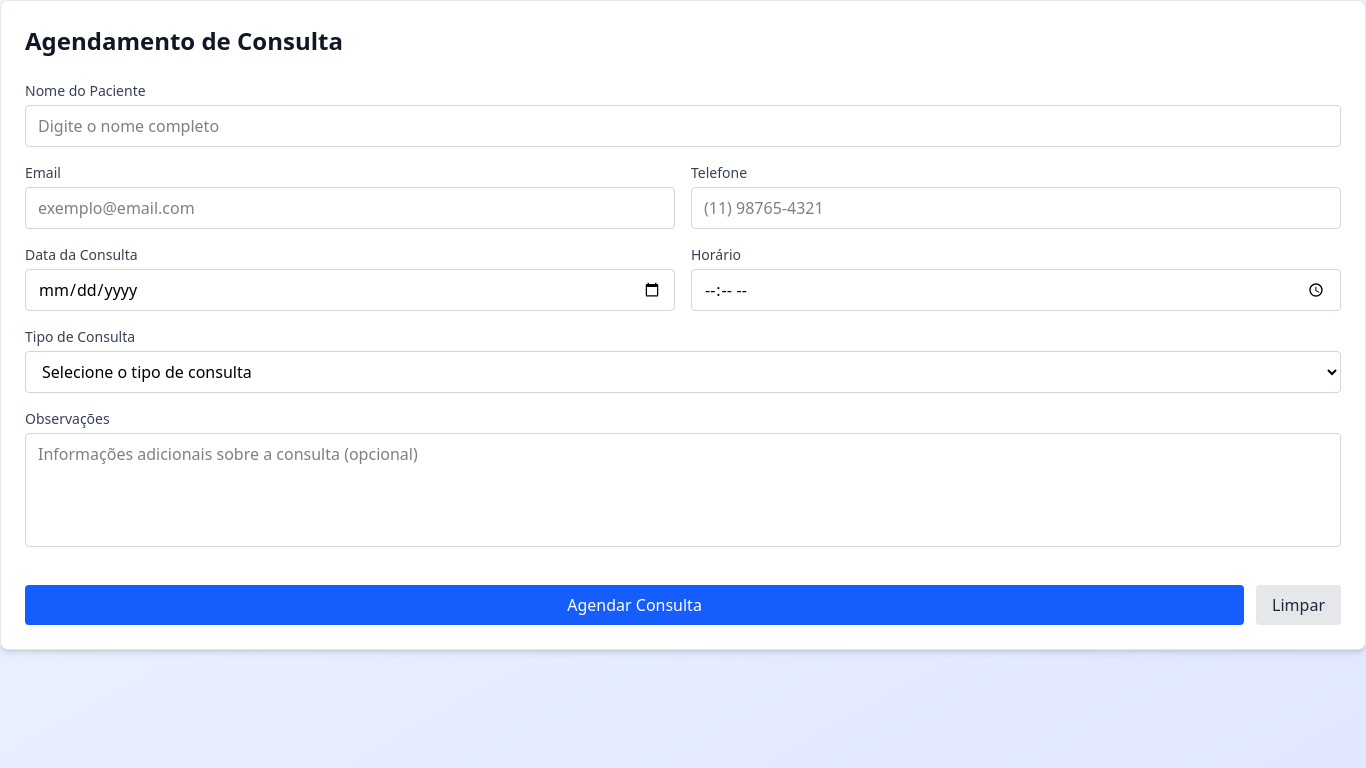
AppointmentForm › Validation - Patient Name › should clear error when user starts typing
Click the button "Agendar Consulta": click(635, 605) [25,585,1244,625]
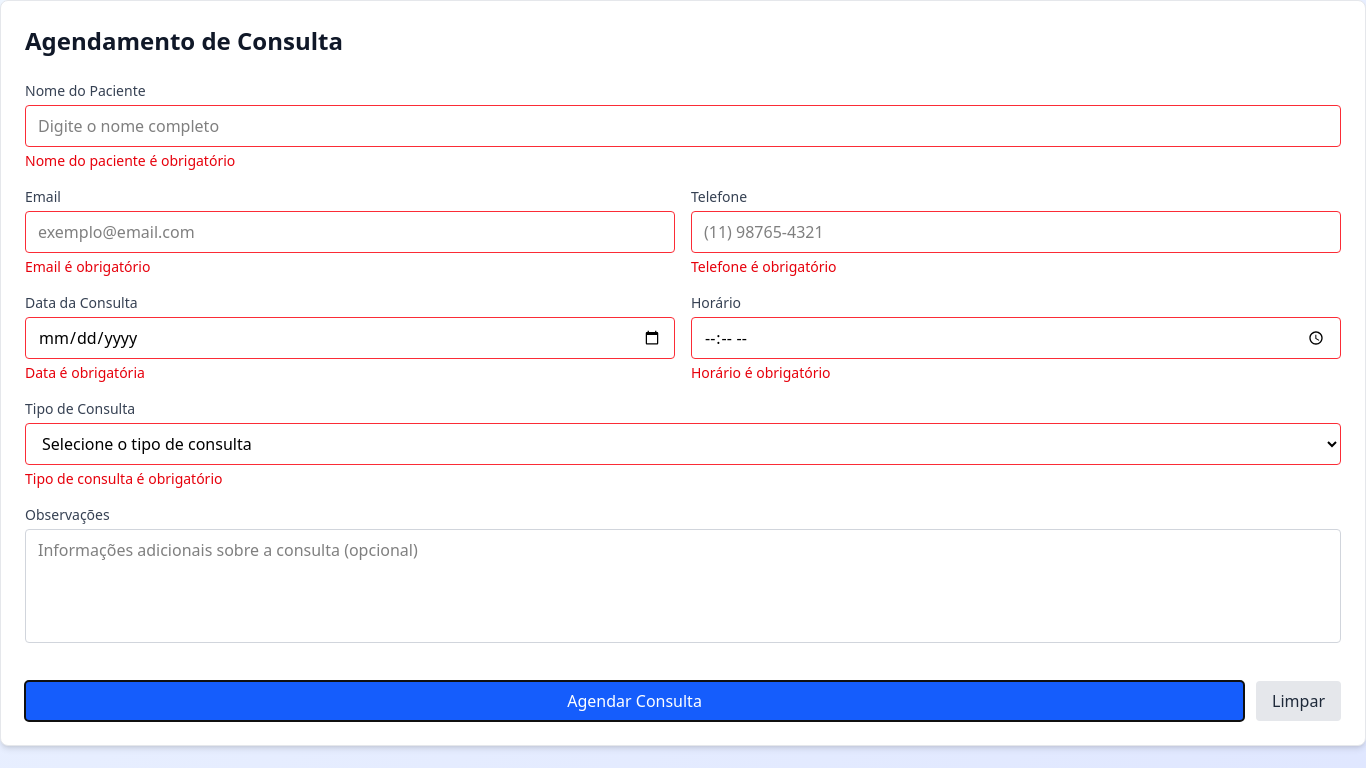
Expected: the text "Nome do paciente é obrigatório" is shown, [25,151,235,170]
In the field labelled "Nome do Paciente": (683, 126) [25,105,1341,147], type "João"
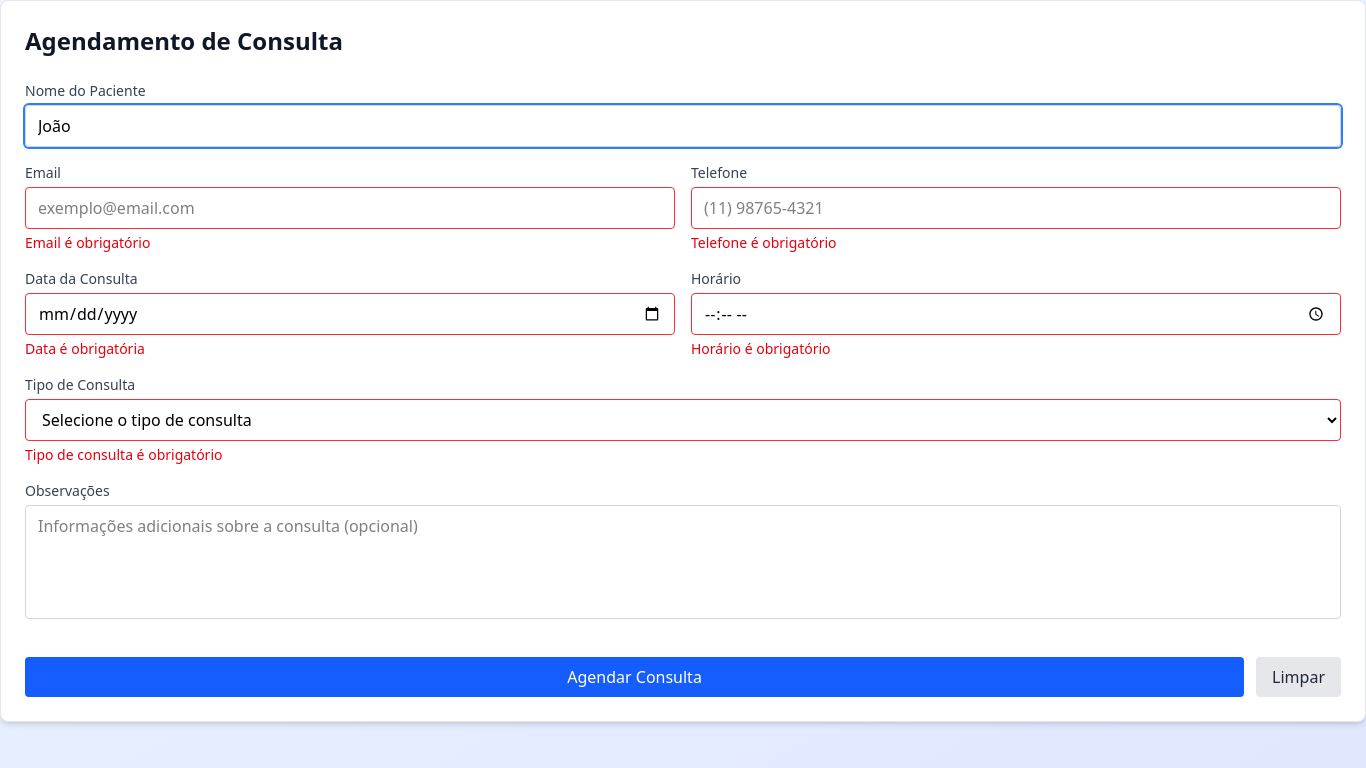
Expected: the text "Nome do paciente é obrigatório" is gone
